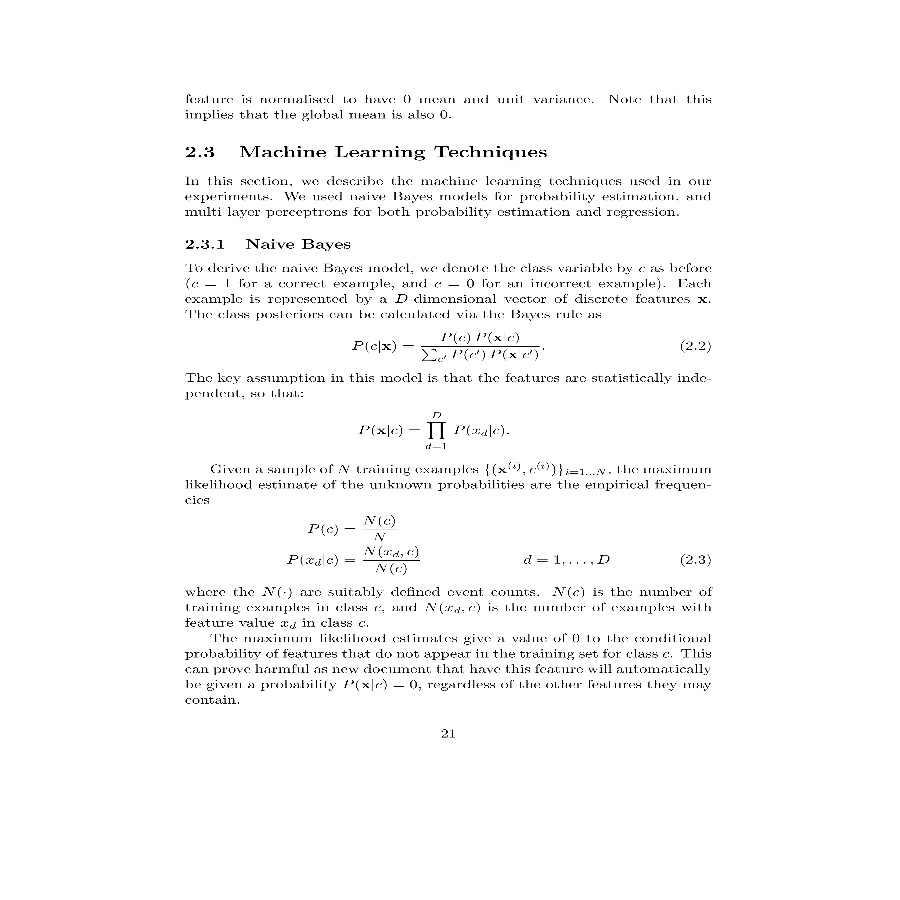eq: (350, 328, 544, 365), (358, 410, 505, 451), (287, 545, 426, 578), (306, 513, 397, 541), (517, 550, 611, 569)
